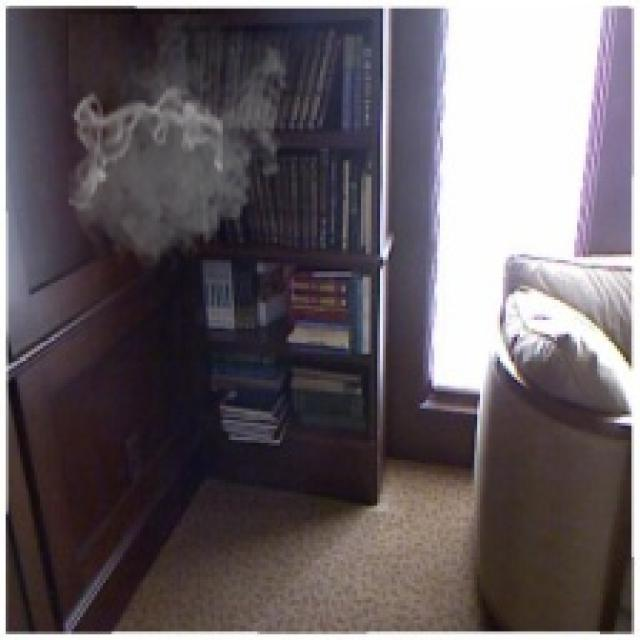smoke: (66, 14, 294, 280)
